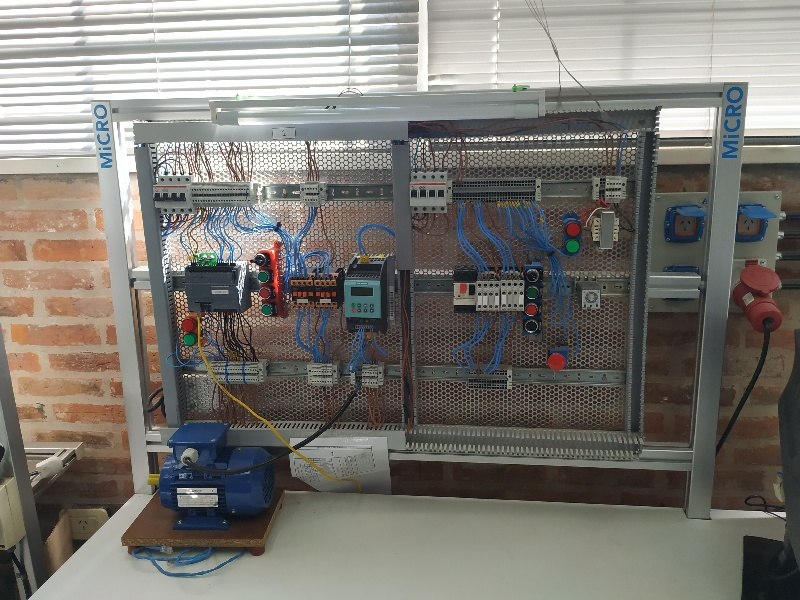Tablero 1: (132, 124, 647, 459)
